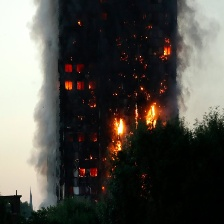fire: (65, 63, 94, 90), (135, 101, 162, 129), (109, 111, 125, 154), (161, 37, 170, 57)
smoke: (25, 1, 68, 195), (171, 1, 200, 123)
